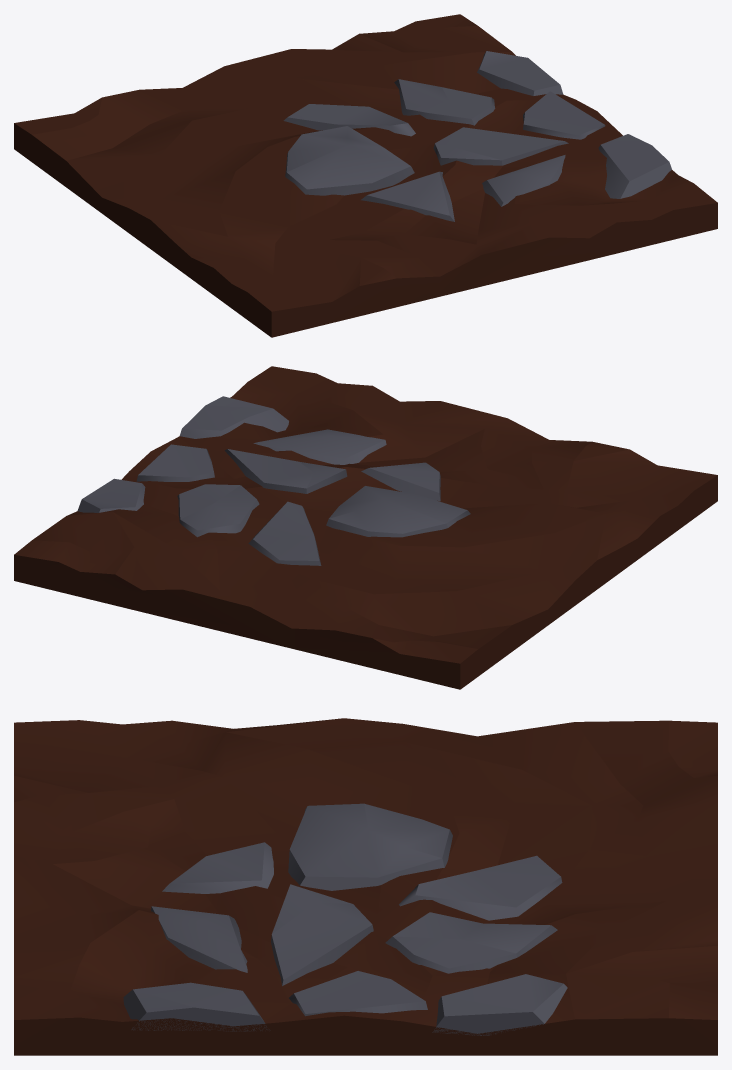
The model's file is Ground_Stone_Path_Ending_L.fbx.
The picture shows the model from 3 angles, top to bottom: view 1: azimuth 30°, elevation 25°; view 2: azimuth 150°, elevation 25°; view 3: azimuth 270°, elevation 25°; orthographic projection. The views are drawn at different scales.
Visible parts, largest first — view 1: Ground_Stone_Path_Ending_L; view 2: Ground_Stone_Path_Ending_L; view 3: Ground_Stone_Path_Ending_L.
Part boxes in pixels (x1=…): Ground_Stone_Path_Ending_L: x1=14, y1=14, x2=717, y2=337; Ground_Stone_Path_Ending_L: x1=14, y1=366, x2=717, y2=689; Ground_Stone_Path_Ending_L: x1=14, y1=718, x2=717, y2=1055.
Bounding box in the file's own units: 147 × 14.98 × 147.
